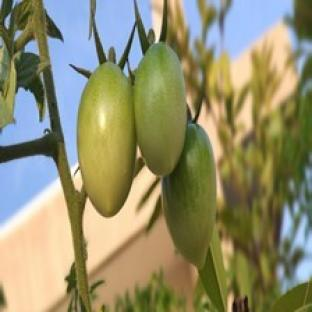Tomato: (78, 63, 136, 217), (162, 123, 215, 268), (134, 42, 186, 175)
